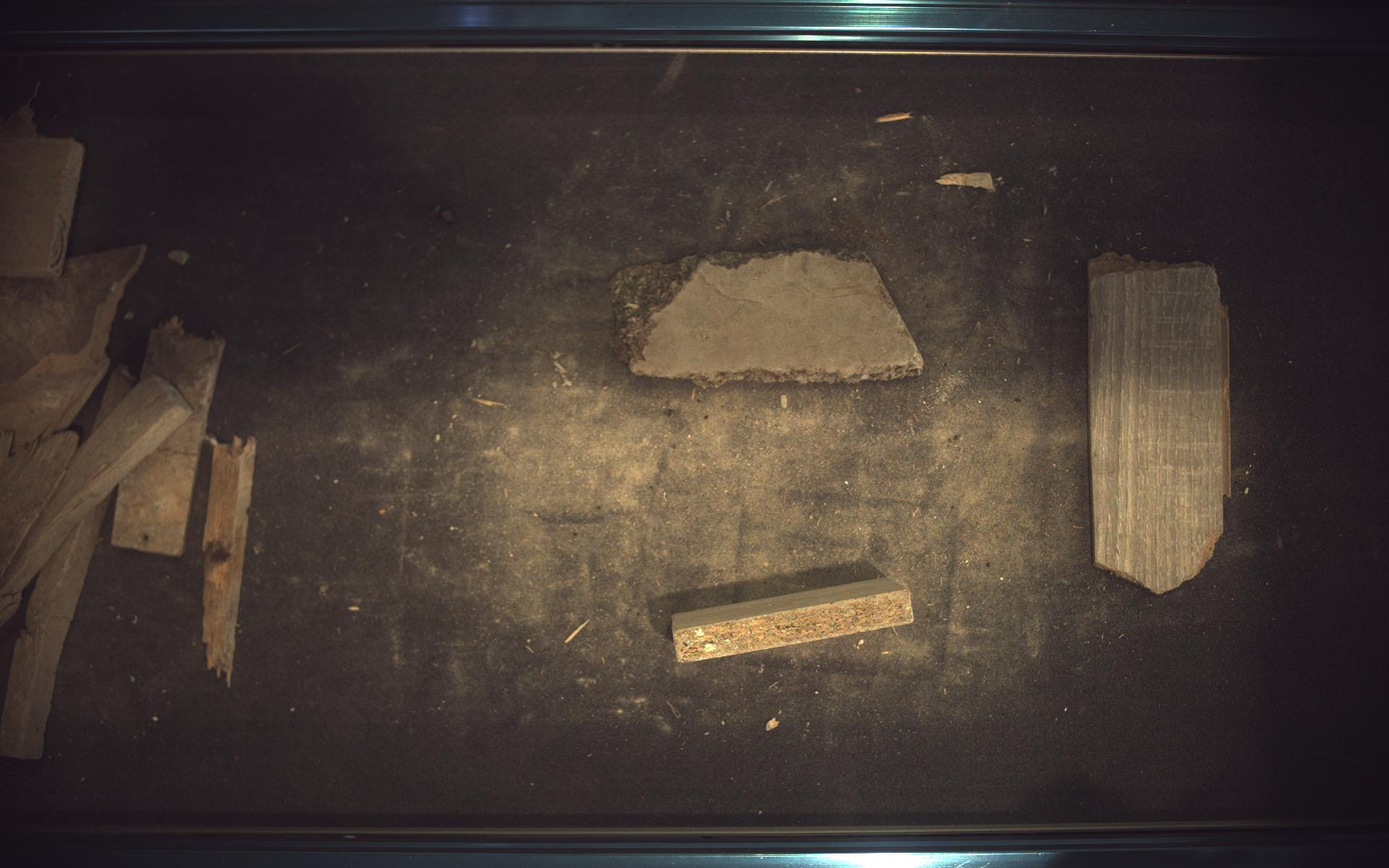wood: (1090, 252, 1234, 594), (611, 250, 925, 387), (673, 578, 915, 663)
